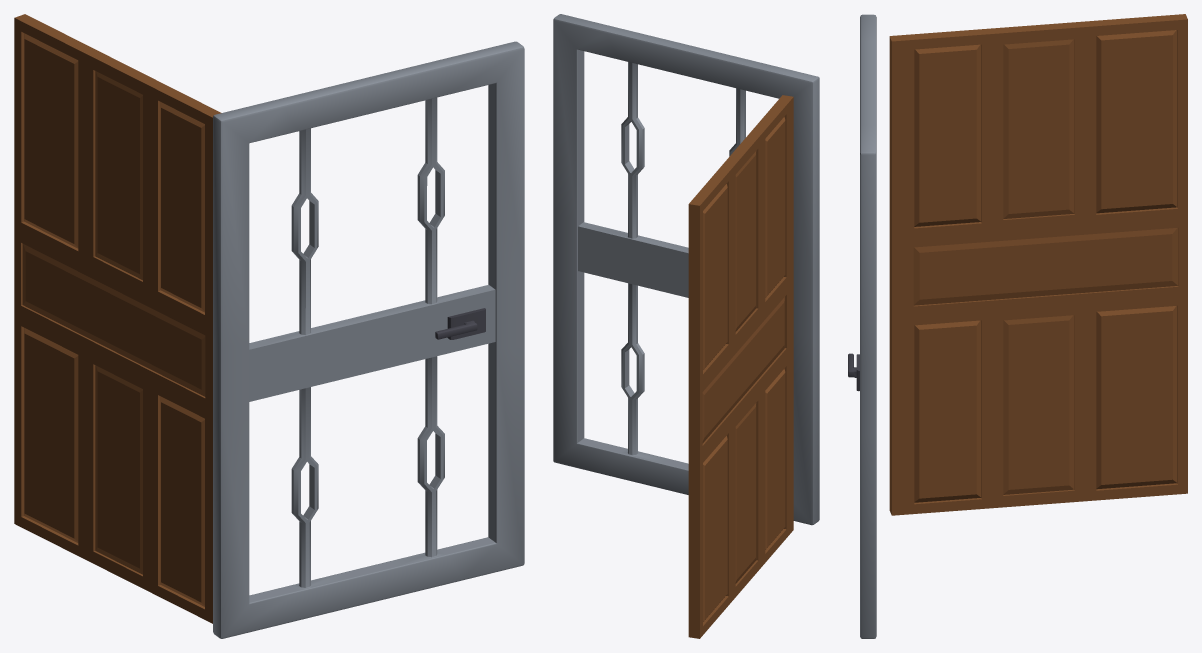
The model's file is MP_Neighbour_Door_Closing.fbx.
3 renders of one model, left to right at view 1: azimuth 30°, elevation 25°; view 2: azimuth 150°, elevation 25°; view 3: azimuth 270°, elevation 25°, orthographic. The views are drawn at different scales.
Visible parts, largest first — view 1: Door, Gate; view 2: Door, Gate; view 3: Door, Gate.
Boxes of the visible parts, box(x1,y1,x2,y2) form: Door: box(14, 14, 221, 623); Gate: box(213, 41, 524, 638); Door: box(688, 95, 793, 638); Gate: box(553, 14, 819, 525); Door: box(889, 14, 1187, 515); Gate: box(848, 14, 876, 638).
Size of the model in its own units: 128 by 190 by 119.
